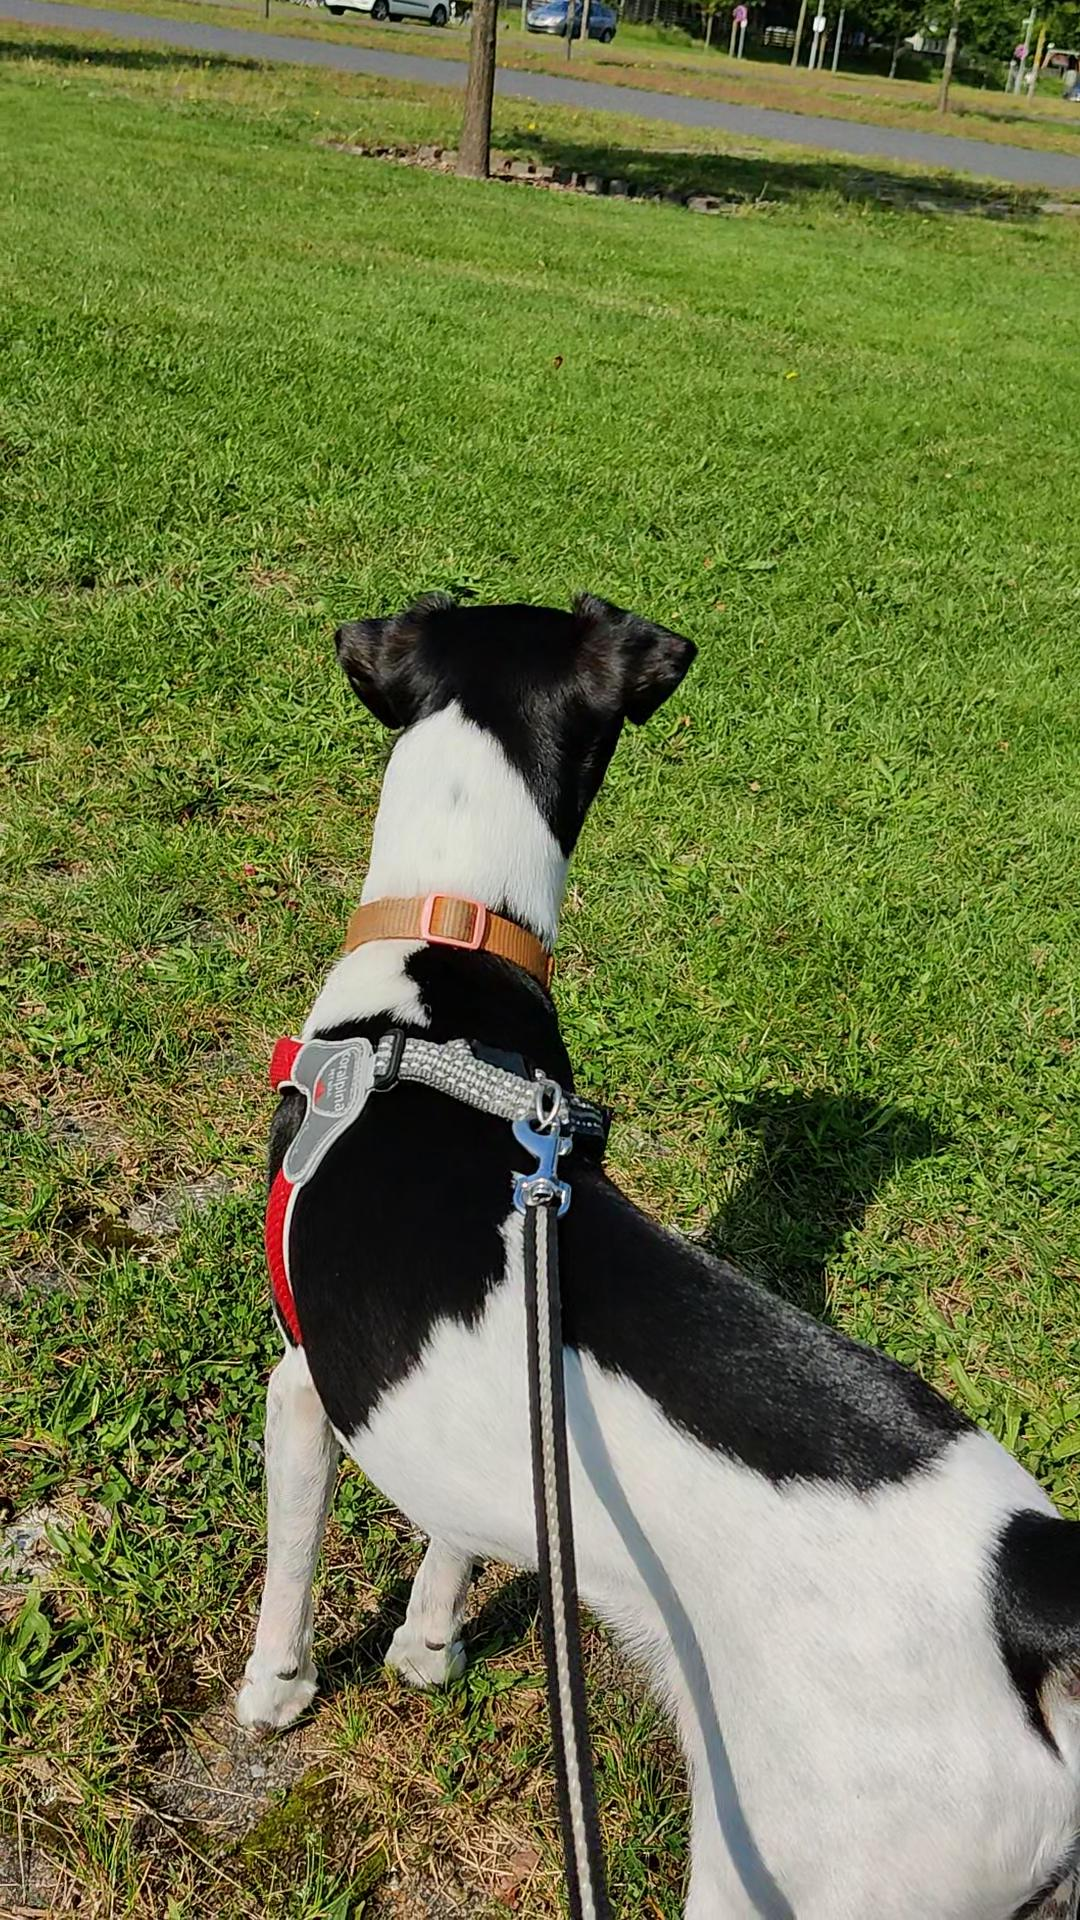Dog: (185, 574, 1079, 1919)
